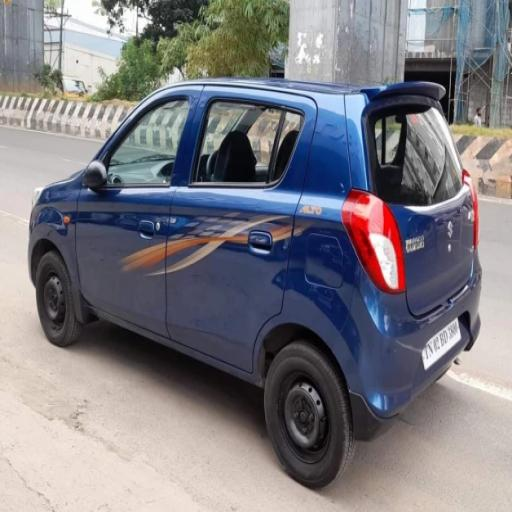License: (418, 314, 466, 374)
